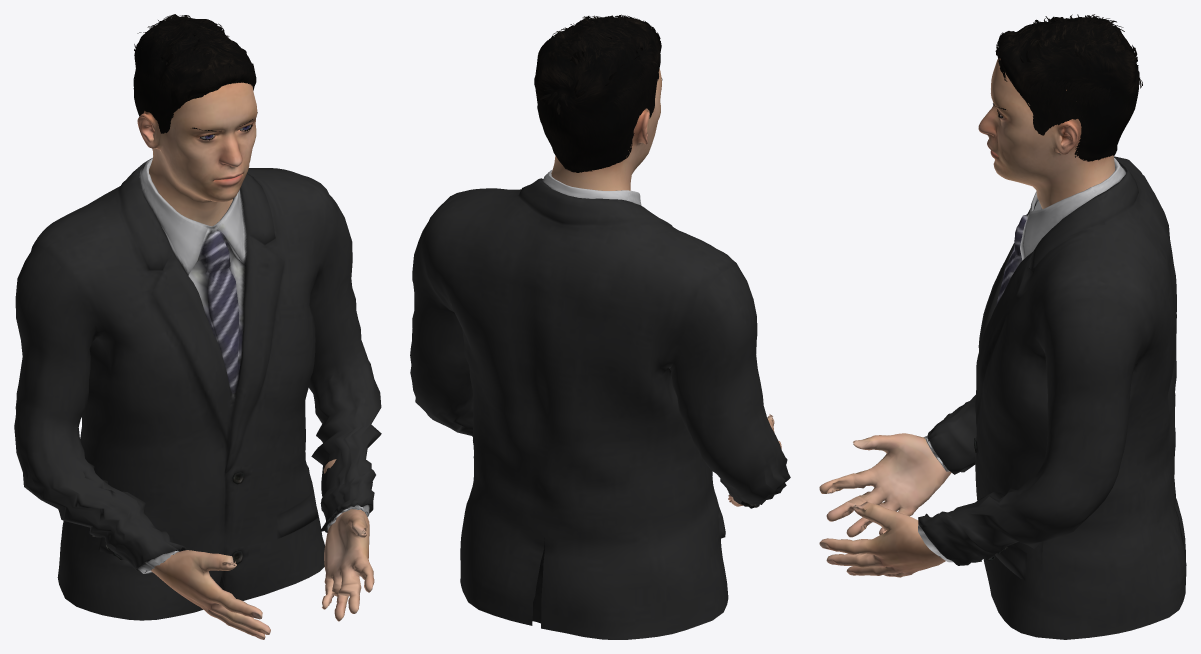
The model's file is m_mid_ca.glb.
3 views of the same model, side by side, from view 1: azimuth 30°, elevation 25°; view 2: azimuth 150°, elevation 25°; view 3: azimuth 270°, elevation 25° (orthographic). The views are drawn at different scales.
Parts seen in each view (by area): view 1: Human.male_elegantsuit01, Human, Human.short01; view 2: Human.male_elegantsuit01, Human.short01, Human; view 3: Human.male_elegantsuit01, Human, Human.short01.
Part boxes in pixels (x1,y1,x2,y2): Human.male_elegantsuit01: (14, 158, 381, 620); Human: (137, 82, 374, 639); Human.short01: (133, 14, 256, 149); Human.male_elegantsuit01: (410, 170, 790, 639); Human.short01: (534, 14, 661, 172); Human: (551, 69, 781, 506); Human.male_elegantsuit01: (918, 156, 1186, 639); Human: (819, 58, 1115, 577); Human.short01: (995, 14, 1142, 161).
Size of the model in its own units: 0.5766 by 0.8632 by 0.5139.
9 materials, 9 textured.
